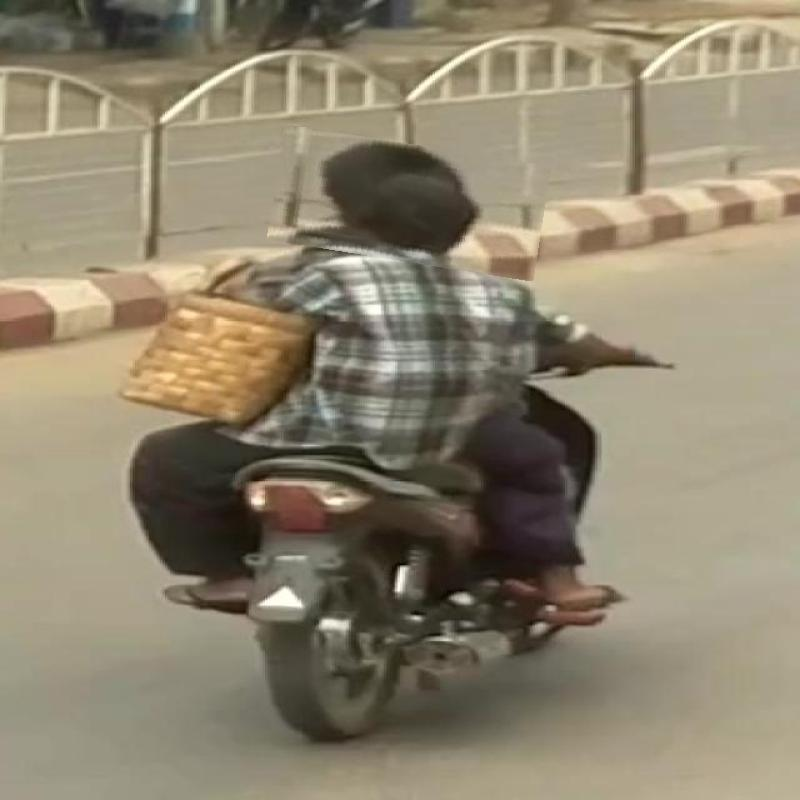nohelmet: (271, 134, 548, 271)
